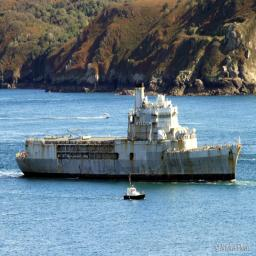Portanaves: (15, 81, 245, 184)
